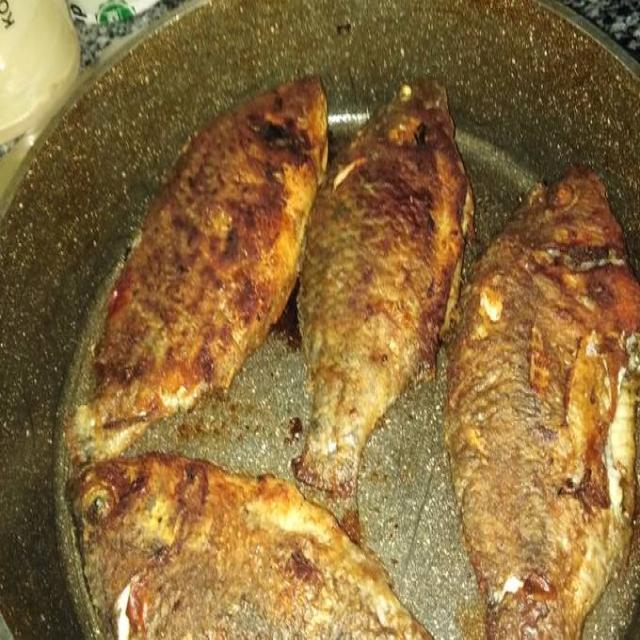Peixe: (63, 70, 637, 638), (65, 72, 329, 463), (443, 163, 638, 638), (290, 74, 476, 542), (67, 449, 435, 637)
